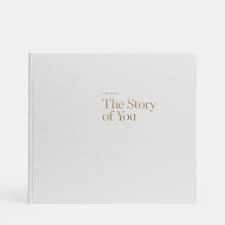Paper: (19, 41, 216, 212)
